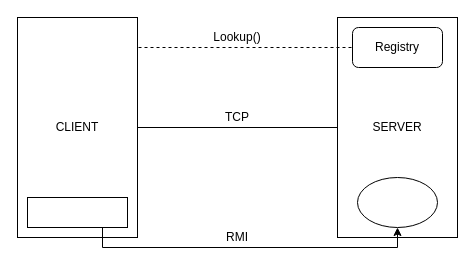
Image size: 475x273. Some labels were removed from this diagram. The centre of each missing label's shape, as x and y in pixels:
"Remote Object" goes at pixel 397 202.
"Stub" goes at pixel 77 212.
